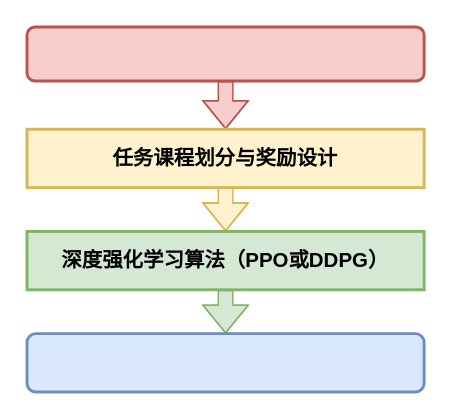
This 450x418 diagram has some shape labels left out. The box of each missing label's shape, as (x1, y1, x2, y2) in pixels:
输入：任务阶段信息: (25, 25, 425, 82)
输出：导航策略: (25, 331, 425, 393)
